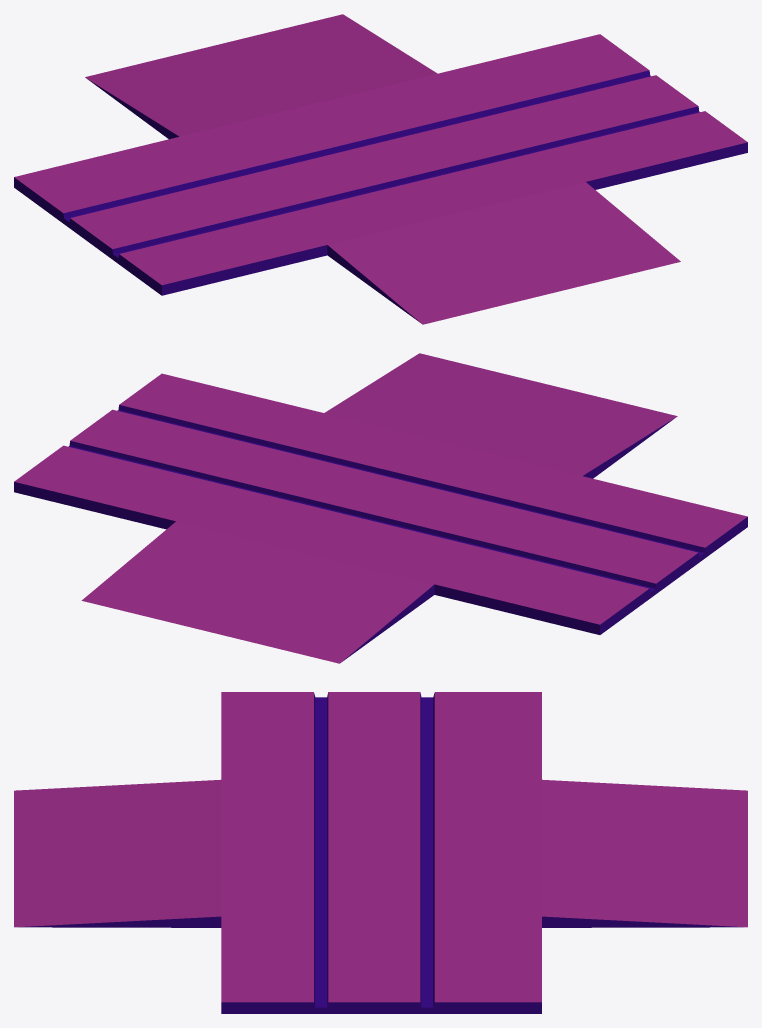
File: TrainTracks.fbx
The picture shows the model from 3 angles, top to bottom: view 1: azimuth 30°, elevation 25°; view 2: azimuth 150°, elevation 25°; view 3: azimuth 270°, elevation 25°; orthographic projection. The views are drawn at different scales.
Visible parts, largest first — view 1: Cube.003; view 2: Cube.003; view 3: Cube.003.
Part boxes in pixels (bbox=[...]): Cube.003: bbox=[14, 14, 747, 324]; Cube.003: bbox=[14, 353, 747, 663]; Cube.003: bbox=[14, 692, 747, 1013].
Size of the model in its own units: 1592 by 27.26 by 1591.
